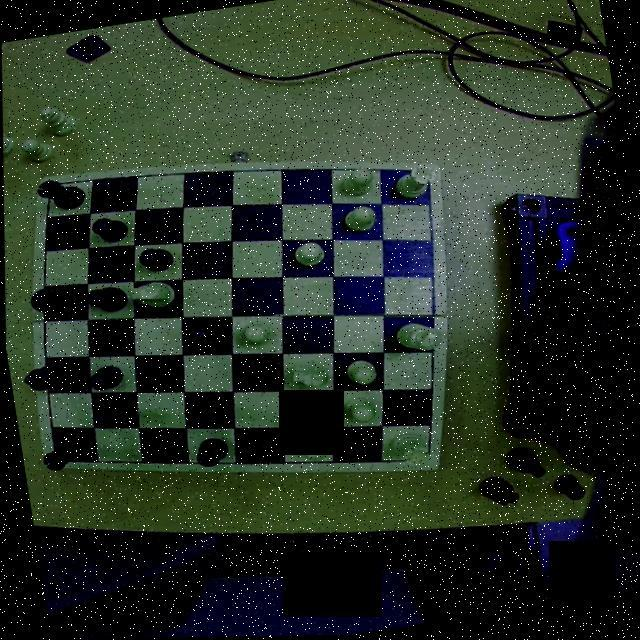chess-table-corners: (409, 162, 439, 190), (41, 448, 73, 471), (412, 444, 440, 470), (36, 176, 61, 200)
